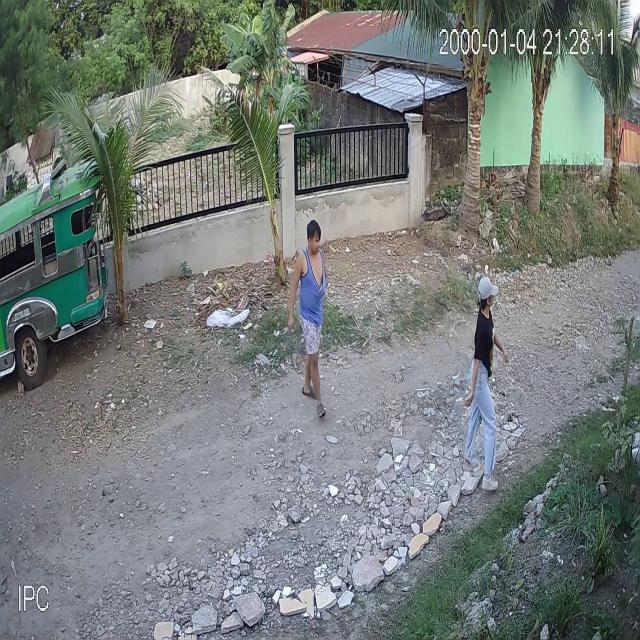walking: (462, 276, 512, 494), (286, 218, 334, 420)
